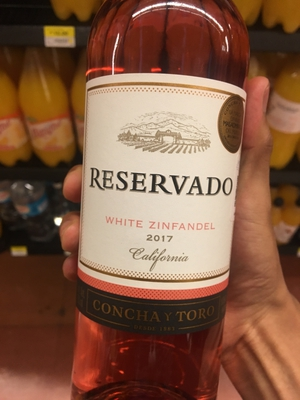reservado white zinfandel: (69, 9, 244, 400)
